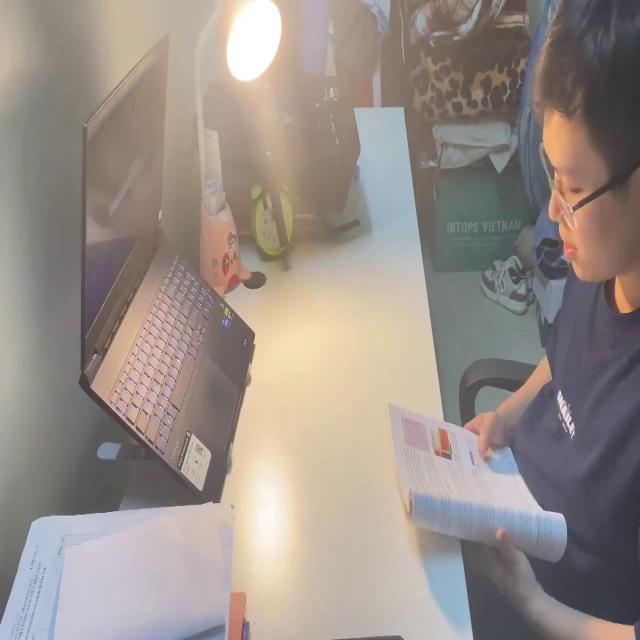book: (3, 499, 254, 640), (384, 391, 569, 578)
laptop: (69, 34, 254, 498)
student: (453, 0, 640, 640)
